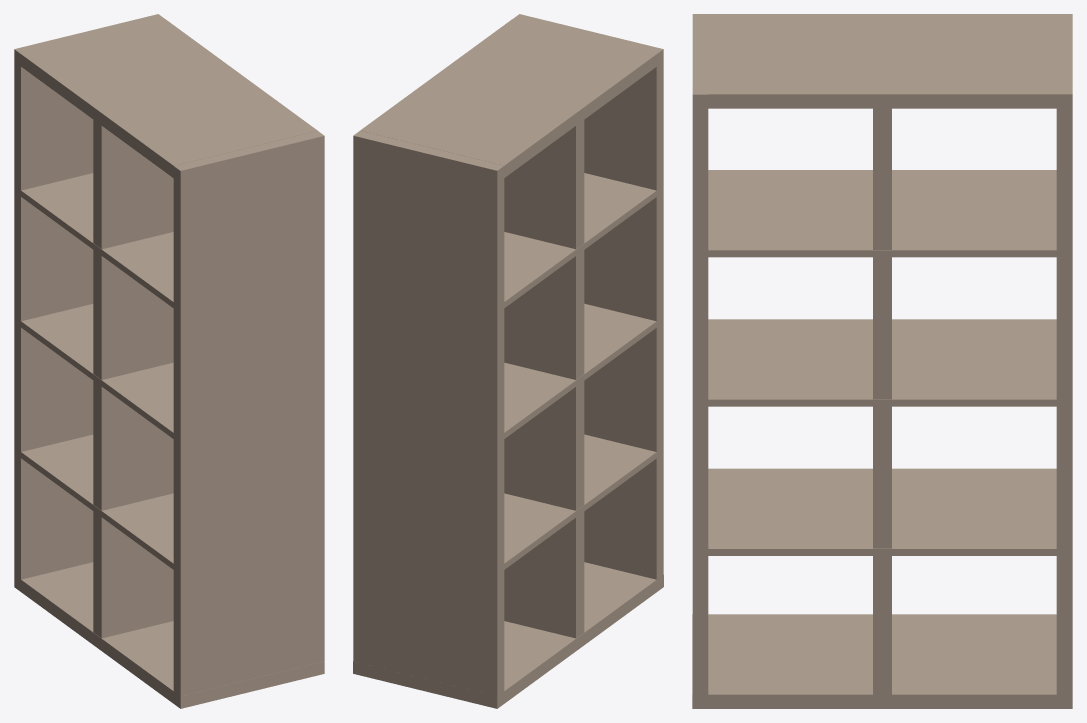
Rendered from KALLAX-tan.fbx.
The picture shows the model from 3 angles, left to right: view 1: azimuth 30°, elevation 25°; view 2: azimuth 150°, elevation 25°; view 3: azimuth 270°, elevation 25°; orthographic projection. The views are drawn at different scales.
Visible parts, largest first — view 1: Cube; view 2: Cube; view 3: Cube.
Part boxes in pixels (left/top/right/bottom): Cube: left=14, top=14, right=324, bottom=708; Cube: left=353, top=14, right=663, bottom=708; Cube: left=692, top=14, right=1072, bottom=708.
Bounding box in the file's own units: 38.1 × 136 × 76.2.
